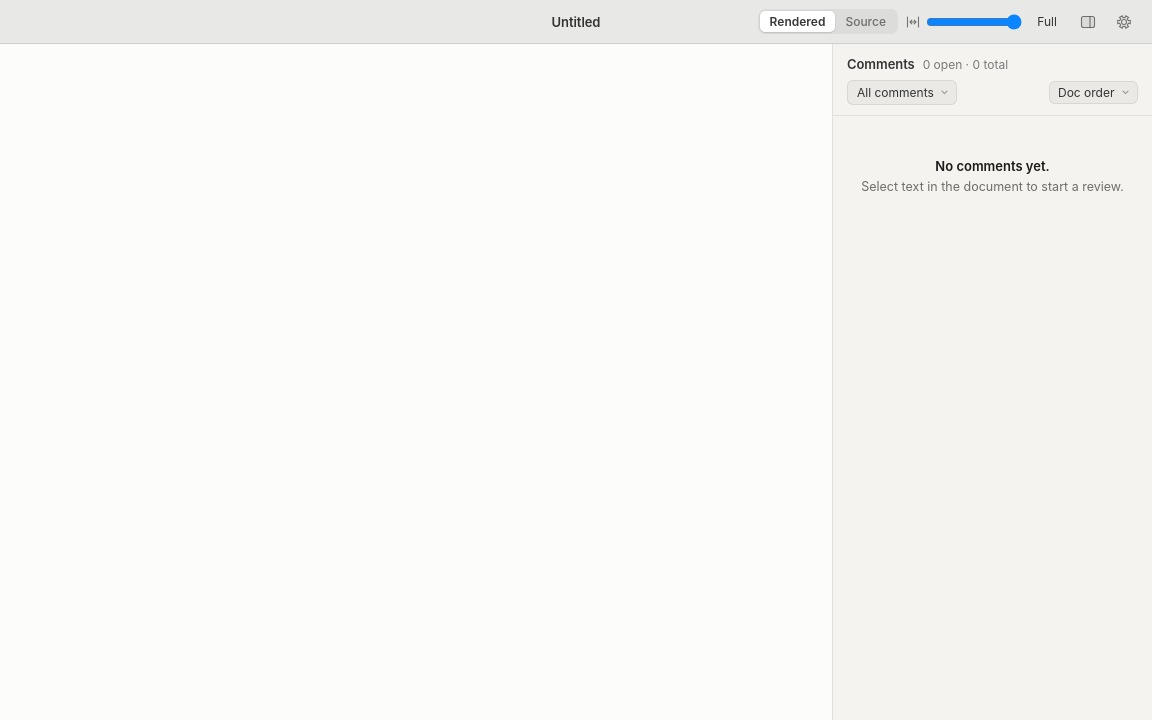
Test: Phase 11 — Settings modal › Done button closes the modal
What coordinates should you click on to do the following:
click the button with test id "fm-titlebar-settings"
I would click on:
 (1124, 22)
Its box is x1=1110 y1=10 x2=1138 y2=34.
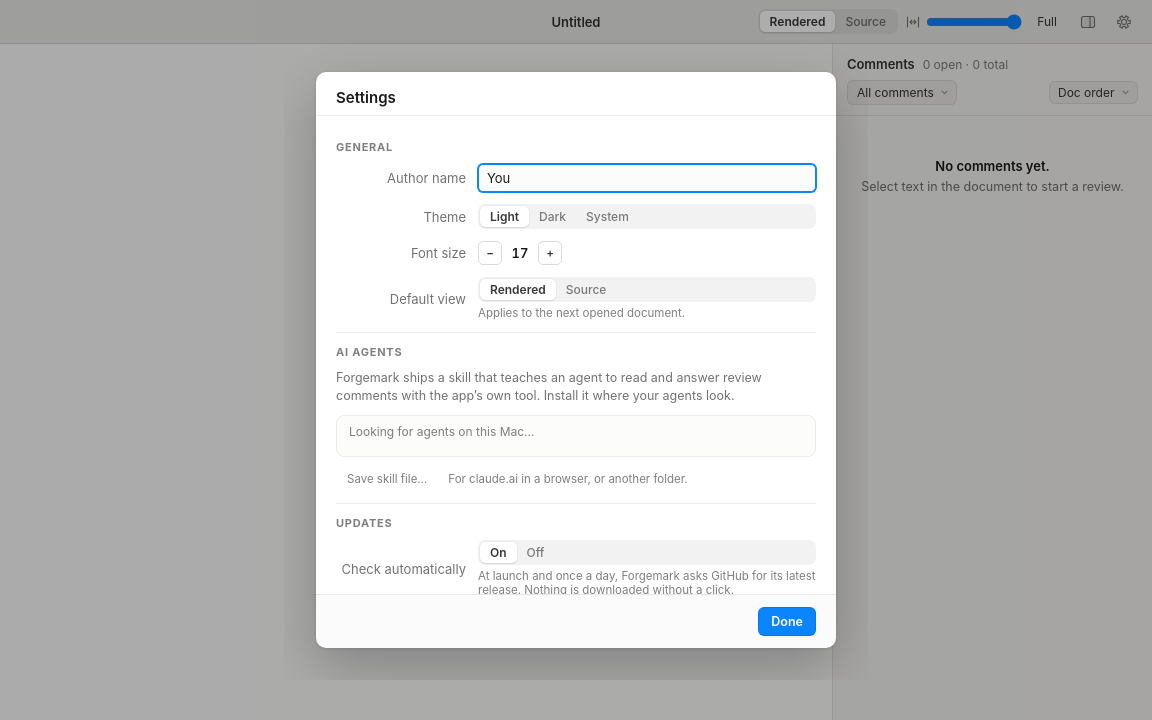
What coordinates should you click on to do the following:
click the button with test id "fm-settings-done"
I would click on:
 (787, 621)
Its box is x1=758 y1=606 x2=816 y2=636.
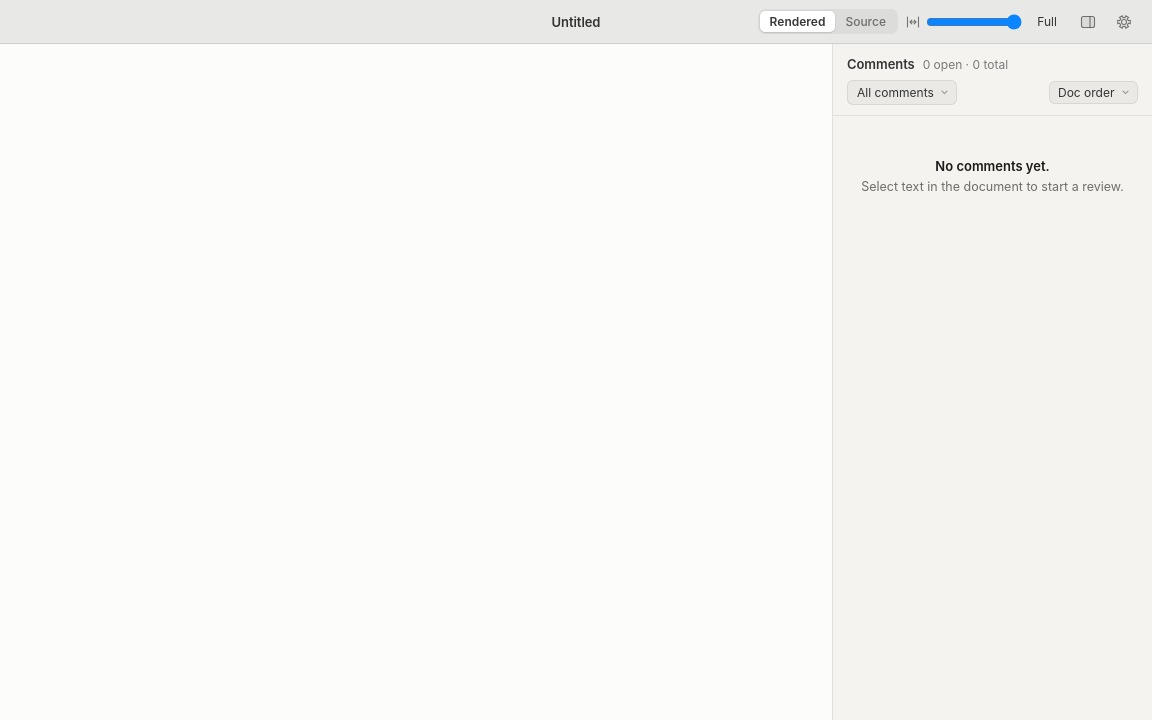
Now the dialog with test id "fm-settings-modal" is gone
